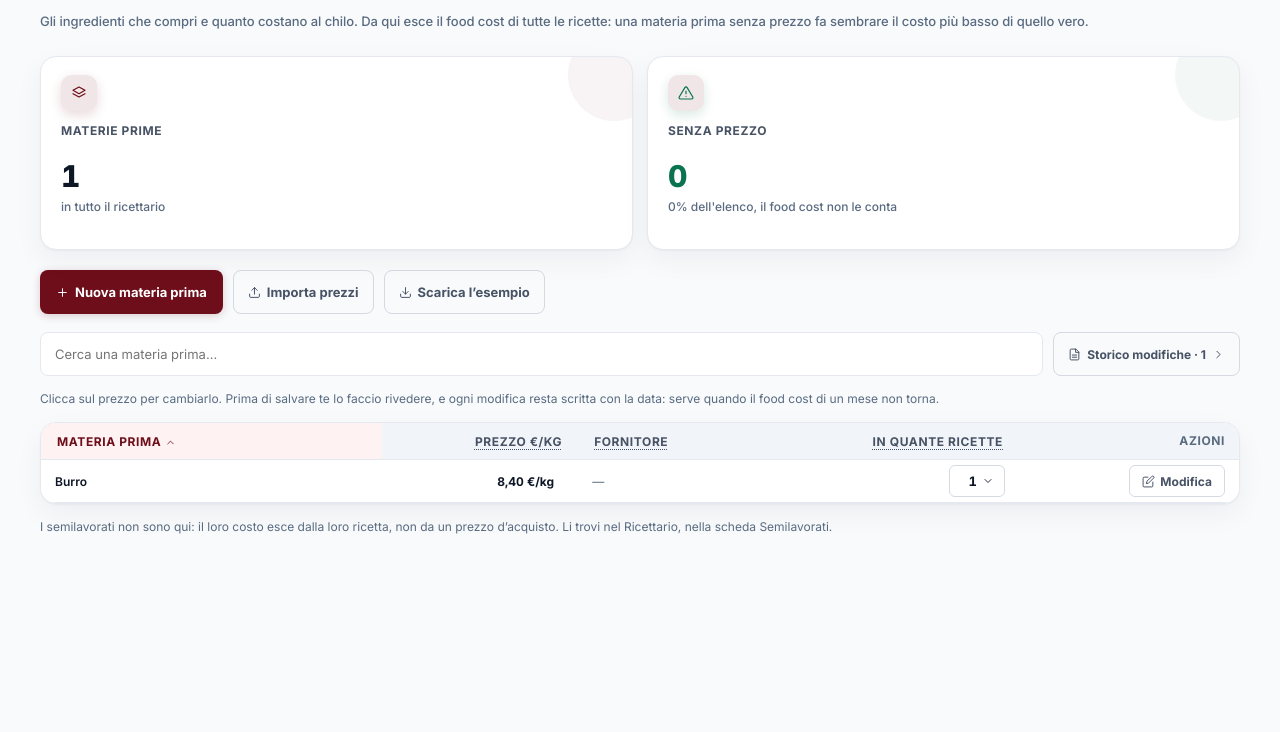
Test: materie prime — lo storico non deve far cadere la pagina › l'euro sta dopo la cifra anche nello storico
The width and height of the screenshot is (1280, 732).
Click the button "Storico modifiche · 1".
click(1147, 354)  # box [1053,332,1240,376]
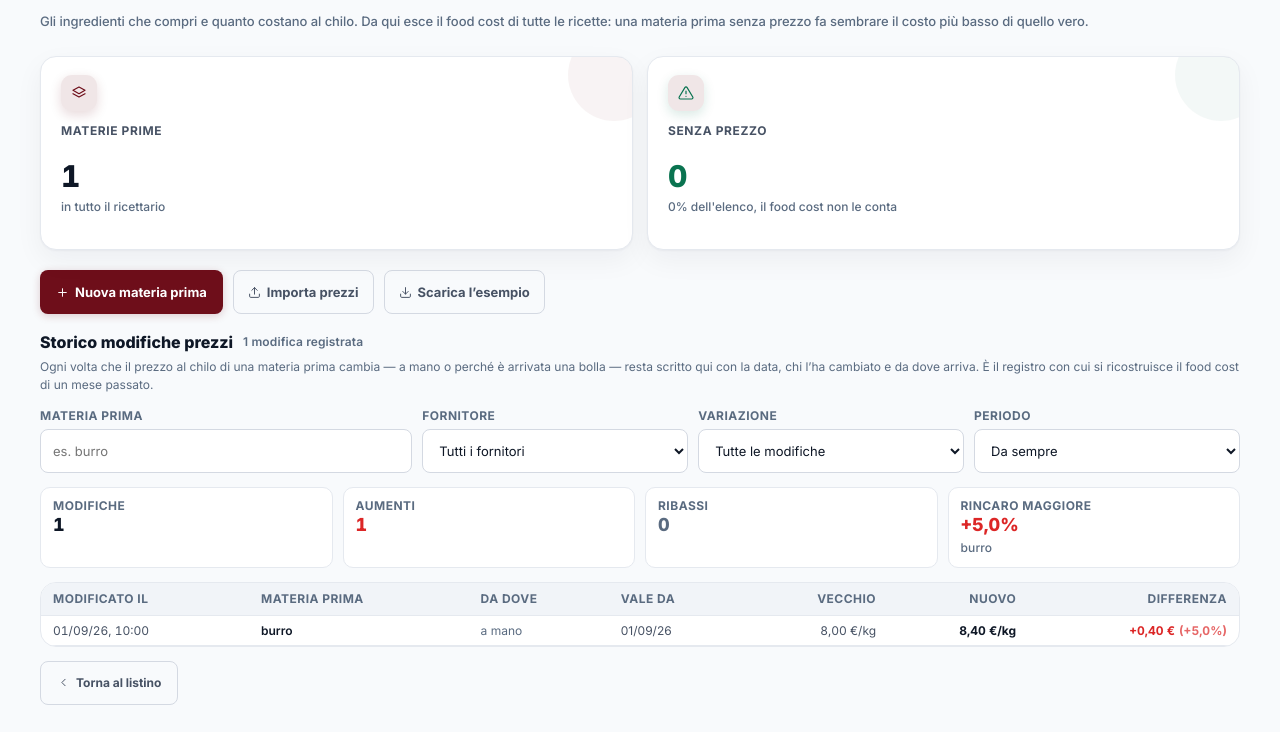
Expected: the text "8,40 €/kg" is shown, [888,615,1028,645]
Expected: the text "8,00 €/kg" is shown, [744,615,888,645]
